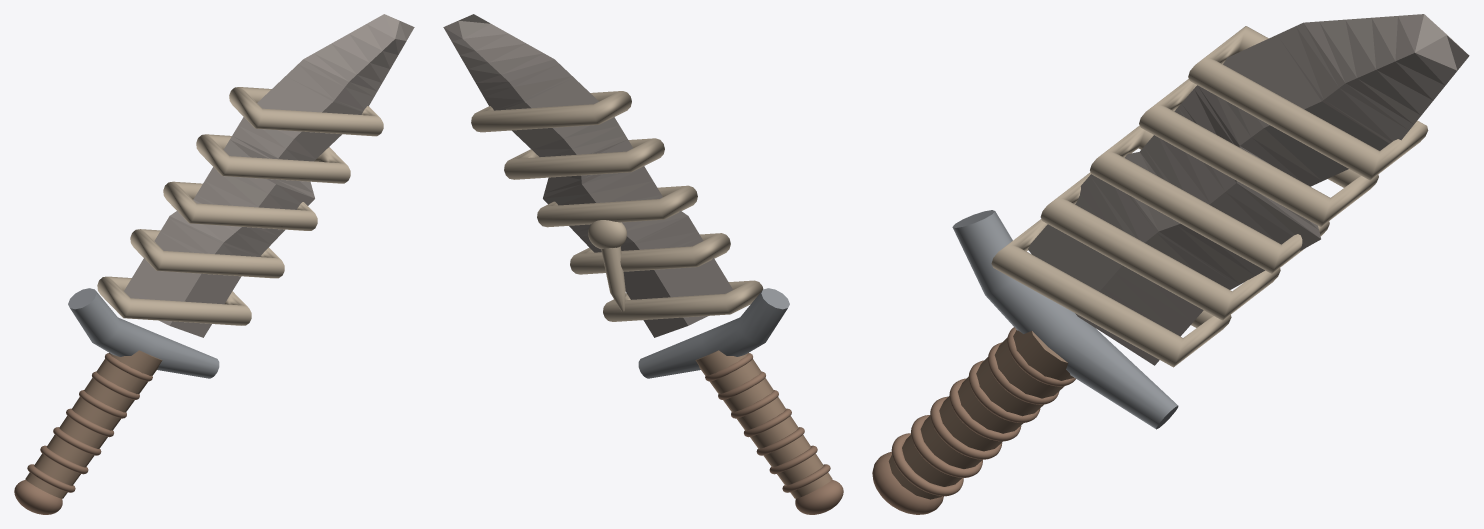
File: sealed_demon_sword.glb
The picture shows the model from 3 angles, left to right: view 1: azimuth 30°, elevation 25°; view 2: azimuth 150°, elevation 25°; view 3: azimuth 330°, elevation 25°; orthographic projection. The views are drawn at different scales.
Size of the model in its own units: 27 by 27 by 4.47.
